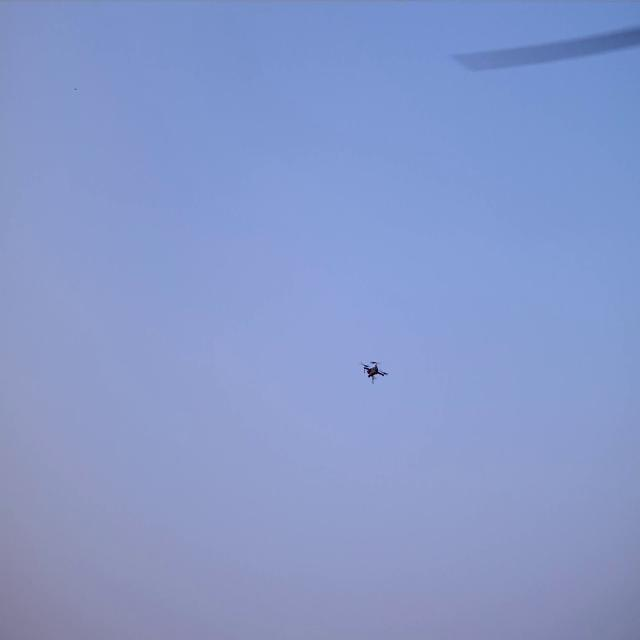UAV: (364, 362, 386, 383)
